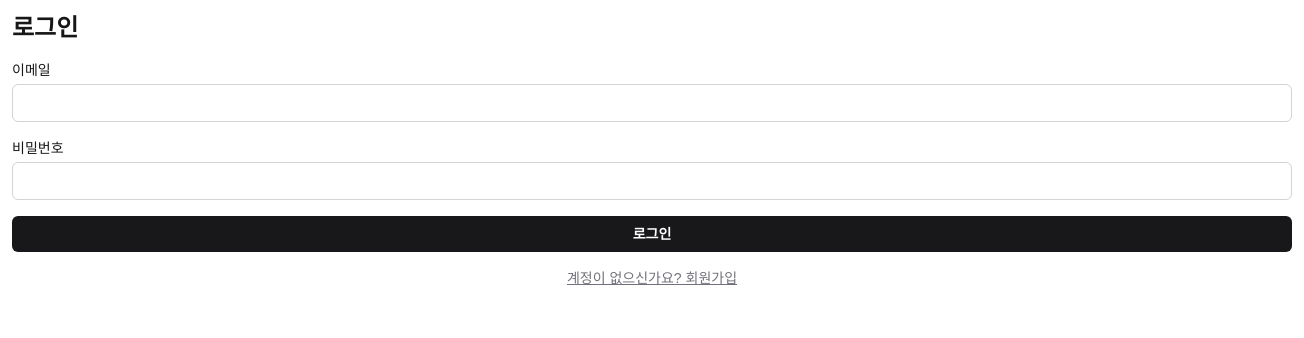
AuthForm (#35) › 로그인 실패(401)면 인라인 에러 메시지를 노출한다
This screenshot has width=1304, height=338.
Type "a@b.com" into the field labelled "이메일".
click(652, 103); type("a@b.com")  # box left=12, top=84, right=1292, bottom=122
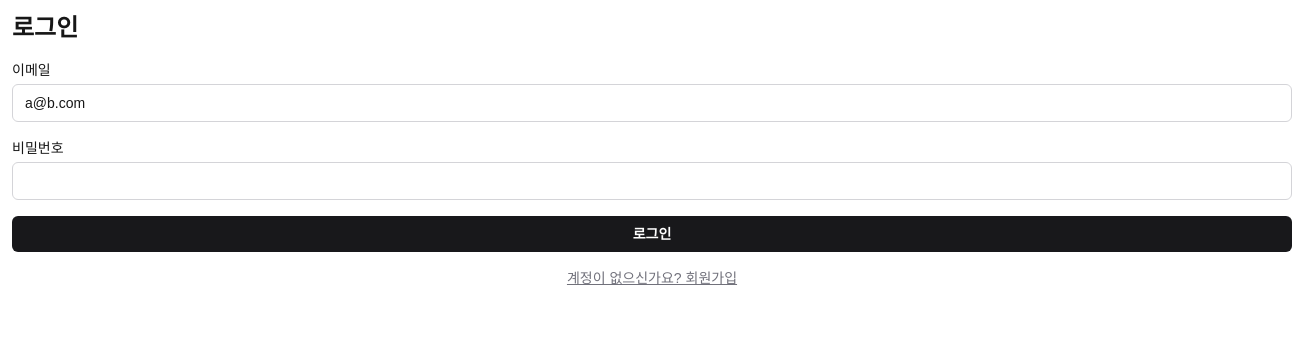
Type "wrongpass" into the password field labelled "비밀번호".
click(652, 181); type("wrongpass")  # box left=12, top=162, right=1292, bottom=200
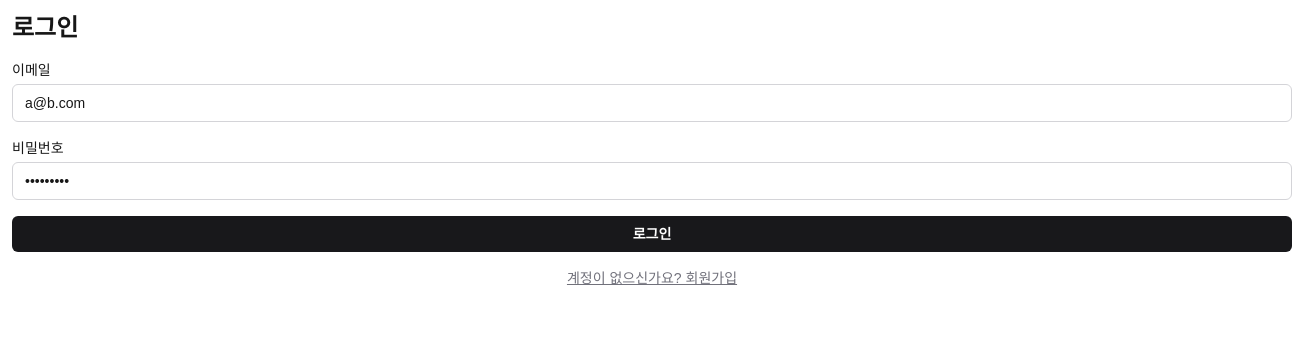
Click the button "로그인".
click(652, 234)  # box left=12, top=216, right=1292, bottom=252
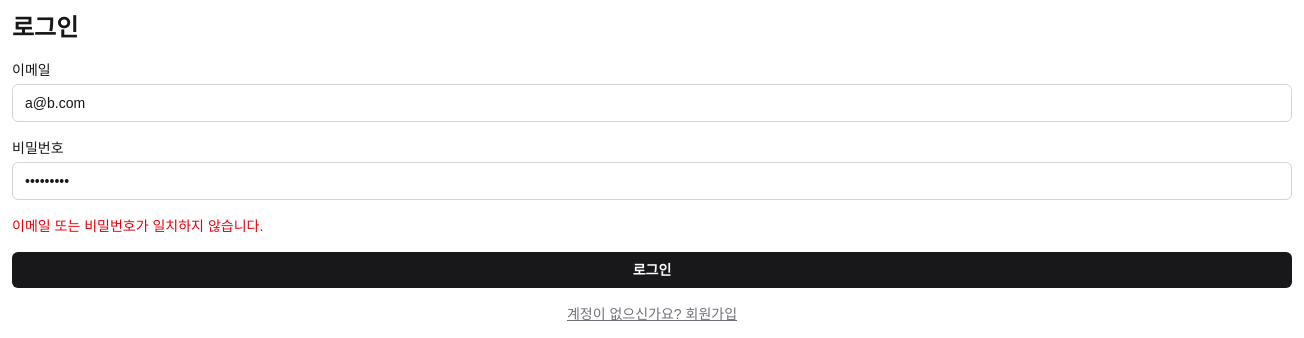
Check: the message shows "일치하지 않습니다", box left=12, top=218, right=263, bottom=234
